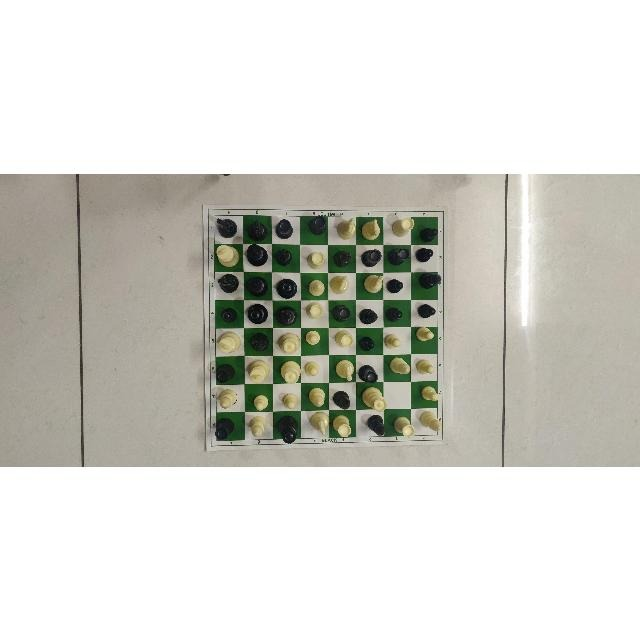black-bishop: (331, 387, 355, 415), (418, 268, 442, 291), (275, 246, 298, 269), (333, 246, 355, 269), (367, 411, 387, 436), (357, 304, 380, 325)
black-king: (245, 244, 271, 272), (275, 302, 298, 328), (246, 275, 272, 298)
black-knight: (214, 214, 239, 239), (215, 272, 241, 296), (246, 217, 268, 243), (249, 327, 270, 352)
black-pawn: (385, 301, 404, 327), (415, 300, 438, 321), (218, 302, 239, 324), (357, 333, 377, 356), (421, 224, 441, 246), (385, 273, 405, 294), (413, 246, 436, 263)
black-queen: (274, 413, 299, 445), (274, 274, 299, 300), (246, 300, 271, 325)
black-rook: (213, 414, 237, 442), (361, 245, 383, 273), (216, 359, 238, 387), (359, 359, 381, 385), (275, 217, 298, 241), (386, 244, 410, 265), (308, 212, 328, 235), (332, 301, 352, 322)
white-bishop: (419, 408, 444, 436), (249, 413, 271, 443), (387, 352, 413, 377), (305, 275, 330, 300), (216, 387, 241, 411), (307, 383, 327, 408)
white-king: (216, 326, 244, 354), (245, 357, 270, 384), (214, 242, 239, 267)
white-knight: (310, 408, 331, 438), (335, 215, 359, 241), (360, 272, 383, 298), (334, 354, 355, 382), (332, 272, 355, 297), (331, 272, 354, 297), (361, 213, 379, 244)
white-pawn: (419, 380, 442, 408), (279, 389, 303, 414), (249, 389, 270, 413), (413, 323, 435, 345), (303, 327, 325, 349), (305, 356, 326, 379), (414, 355, 435, 376), (382, 331, 402, 351)
white-queen: (360, 385, 390, 410), (278, 330, 303, 358), (279, 357, 302, 383)
white-rook: (393, 212, 419, 237), (392, 412, 416, 437), (333, 327, 355, 351), (332, 414, 352, 440), (305, 246, 326, 269), (303, 300, 324, 320)
